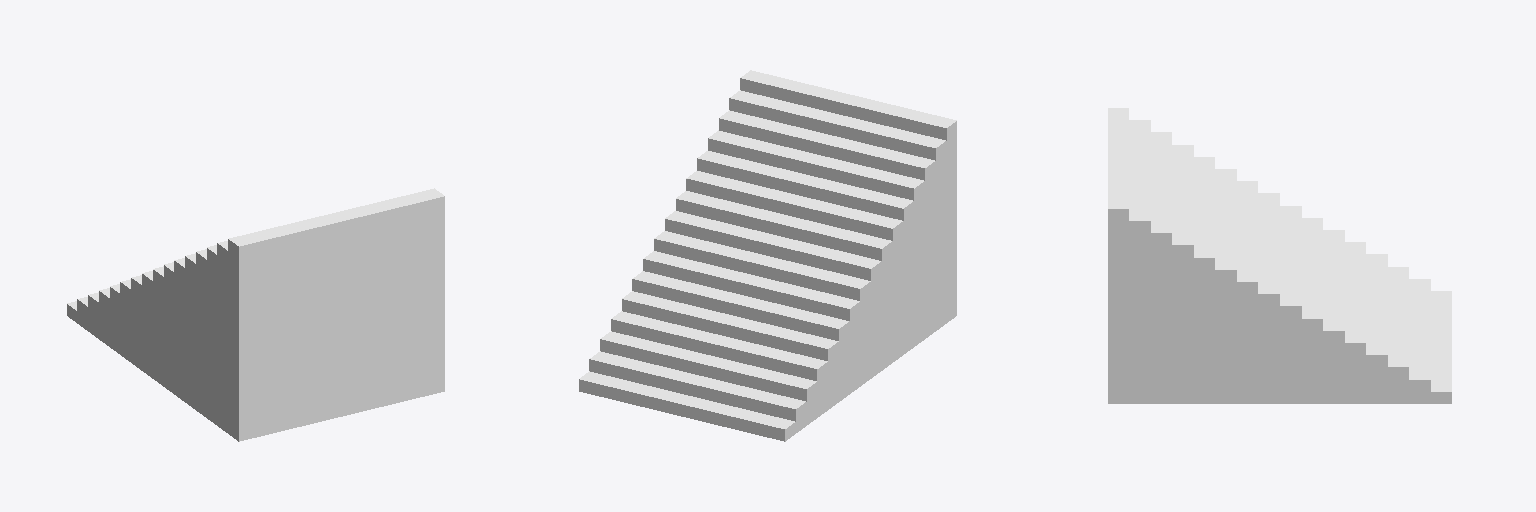
File: Stairs-preview.obj
3 renders of one model, left to right at view 1: azimuth 30°, elevation 25°; view 2: azimuth 150°, elevation 25°; view 3: azimuth 270°, elevation 25°, orthographic.
Visible parts, largest first — view 1: Stairs-preview; view 2: Stairs-preview; view 3: Stairs-preview.
Boxes of the visible parts, box(x1,y1,x2,y2) form: Stairs-preview: box(67, 188, 444, 441); Stairs-preview: box(579, 70, 956, 441); Stairs-preview: box(1108, 108, 1451, 403).
Bounding box in the file's own units: 2.77 × 2.5 × 4.